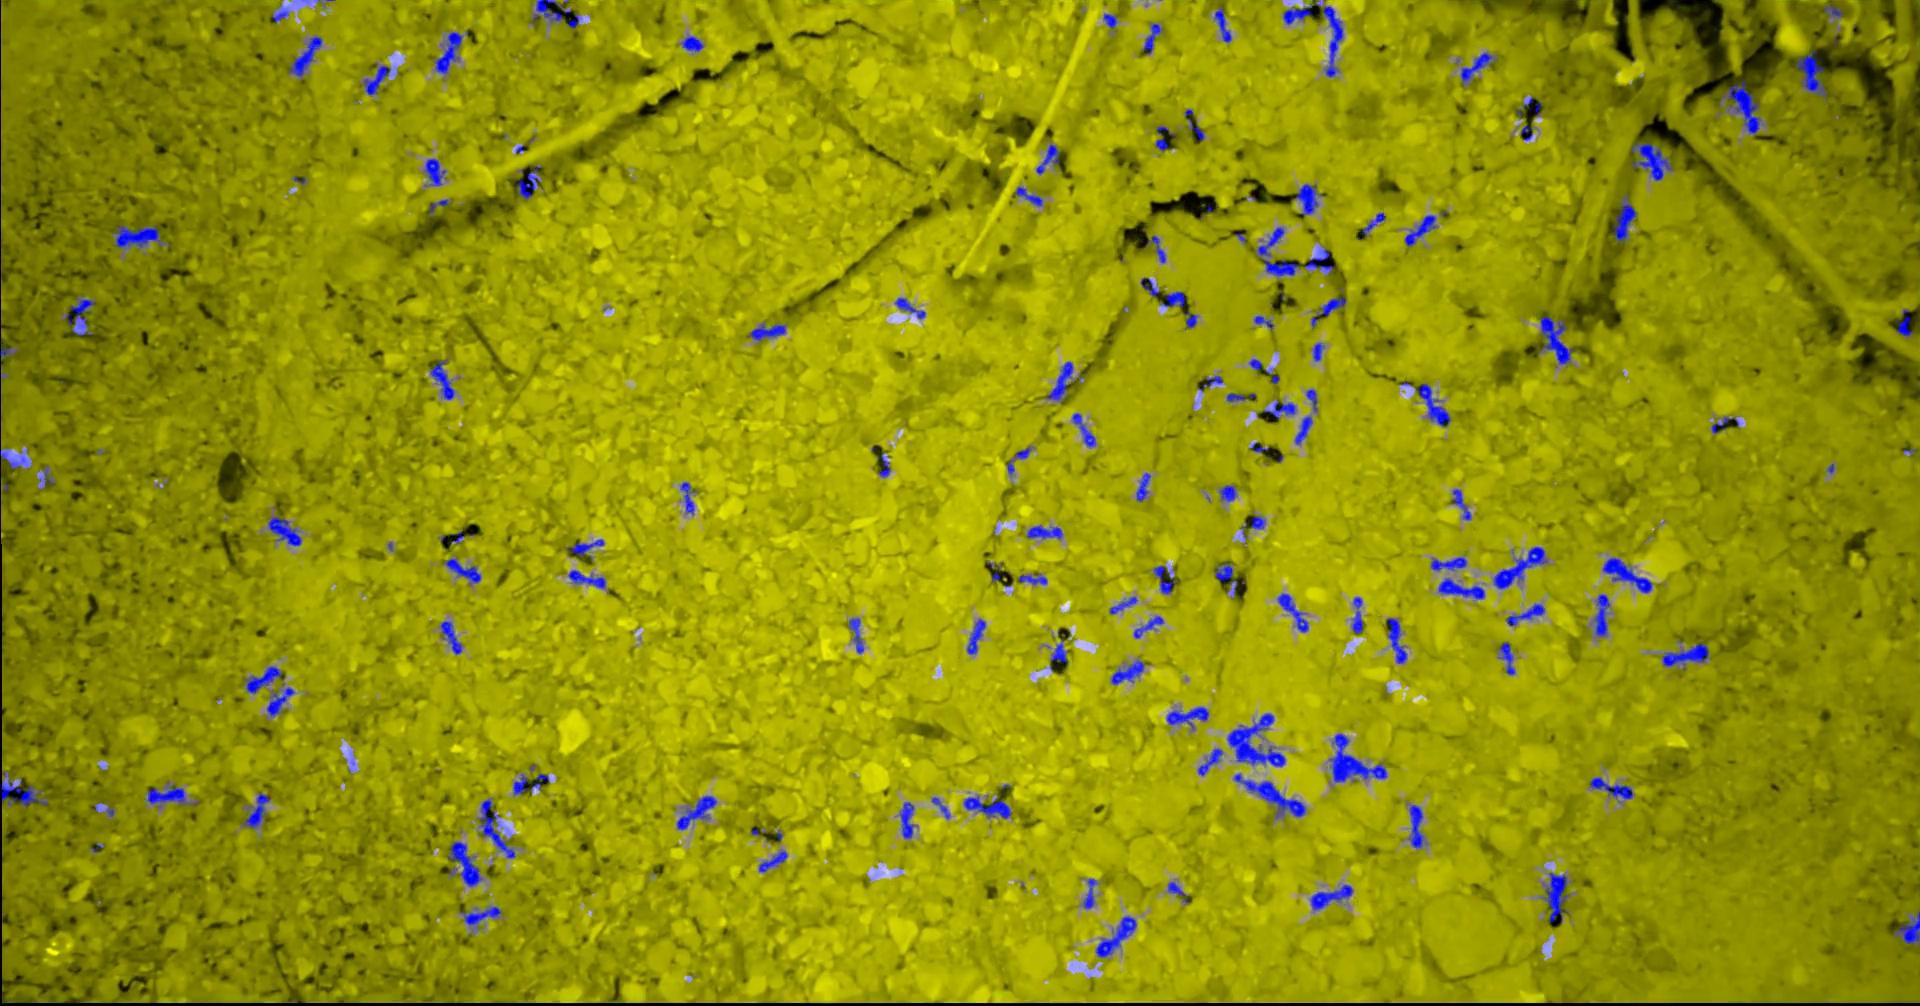ant: (1236, 774, 1307, 817), (1331, 733, 1388, 782), (1495, 546, 1548, 588), (479, 799, 517, 857), (1722, 79, 1763, 133), (1258, 227, 1300, 276), (1604, 558, 1655, 592), (1542, 315, 1577, 363), (1097, 916, 1138, 956), (1632, 142, 1674, 180), (1, 772, 50, 805), (1797, 50, 1829, 98), (450, 841, 483, 887), (1418, 384, 1451, 426), (678, 795, 717, 829), (291, 36, 324, 76), (1324, 6, 1343, 76), (1279, 593, 1310, 633), (1545, 873, 1570, 923), (1614, 193, 1638, 241), (436, 32, 463, 72), (117, 225, 166, 248), (66, 298, 97, 335), (1048, 361, 1074, 401), (1663, 643, 1710, 666), (248, 666, 286, 694), (1312, 884, 1354, 909), (1406, 213, 1437, 246), (1591, 777, 1634, 801), (965, 796, 1013, 818), (1462, 52, 1495, 83), (1217, 561, 1247, 594), (270, 516, 303, 545), (1168, 706, 1210, 729), (432, 359, 456, 399), (1440, 578, 1486, 598), (1388, 617, 1408, 663), (1284, 0, 1322, 24), (244, 793, 270, 827), (447, 558, 483, 583), (364, 62, 392, 94), (1297, 183, 1324, 215), (533, 0, 571, 23), (268, 686, 296, 716), (519, 165, 543, 199), (1895, 911, 1920, 942), (461, 906, 503, 925), (568, 539, 604, 560), (1509, 603, 1545, 625), (1074, 412, 1097, 446), (1112, 661, 1145, 683), (149, 785, 187, 804), (514, 774, 550, 794), (442, 621, 463, 654), (1037, 144, 1062, 173), (570, 569, 607, 588), (1595, 594, 1611, 636), (968, 619, 987, 654), (1199, 748, 1224, 775), (1305, 249, 1335, 272), (1135, 615, 1164, 638), (1143, 23, 1163, 55), (1186, 108, 1206, 140), (1156, 565, 1178, 593), (752, 323, 787, 340), (759, 850, 789, 871), (897, 297, 927, 318), (1215, 8, 1233, 42), (1265, 399, 1297, 418), (425, 158, 447, 185), (1411, 804, 1425, 847), (1016, 185, 1044, 206), (1147, 235, 1167, 263), (1500, 641, 1516, 674), (1454, 489, 1472, 520), (1363, 212, 1385, 235), (850, 619, 865, 653), (1, 447, 27, 467), (902, 801, 916, 838), (1297, 417, 1314, 445), (1029, 525, 1064, 539), (1432, 556, 1468, 570), (1157, 126, 1177, 150), (1051, 636, 1070, 662), (1321, 297, 1347, 315), (1111, 596, 1138, 614), (1352, 596, 1365, 633), (682, 481, 696, 514), (1161, 291, 1187, 307), (1713, 417, 1740, 433), (1170, 882, 1191, 902), (1897, 309, 1912, 337), (1137, 473, 1152, 500), (1084, 878, 1098, 908), (1, 345, 19, 367), (933, 796, 951, 818), (1200, 375, 1224, 390), (1142, 277, 1161, 296), (41, 465, 57, 486), (430, 198, 450, 216), (684, 36, 705, 52), (1018, 573, 1048, 584), (879, 452, 891, 478), (1307, 389, 1319, 412), (1255, 315, 1275, 329), (1246, 514, 1266, 528), (1228, 392, 1257, 401), (1222, 485, 1238, 500), (1825, 4, 1844, 17), (1314, 342, 1326, 361), (273, 9, 290, 22), (1016, 446, 1032, 459), (1105, 13, 1117, 28), (1187, 310, 1199, 326), (1523, 124, 1534, 140), (1250, 358, 1263, 370)
